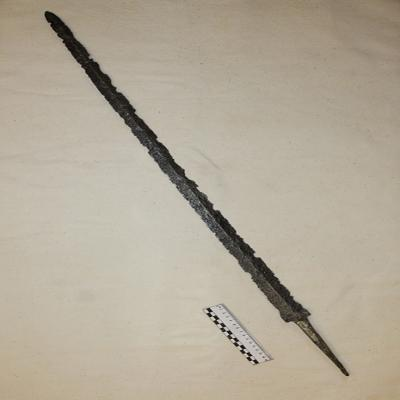weapon: (40, 10, 353, 381)
